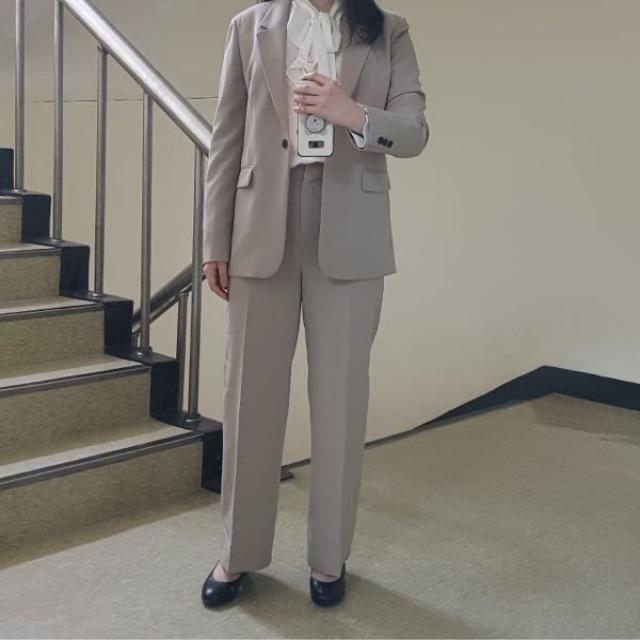blazer: (202, 2, 430, 282)
shirt: (274, 2, 352, 170)
slacks: (220, 160, 385, 581)
